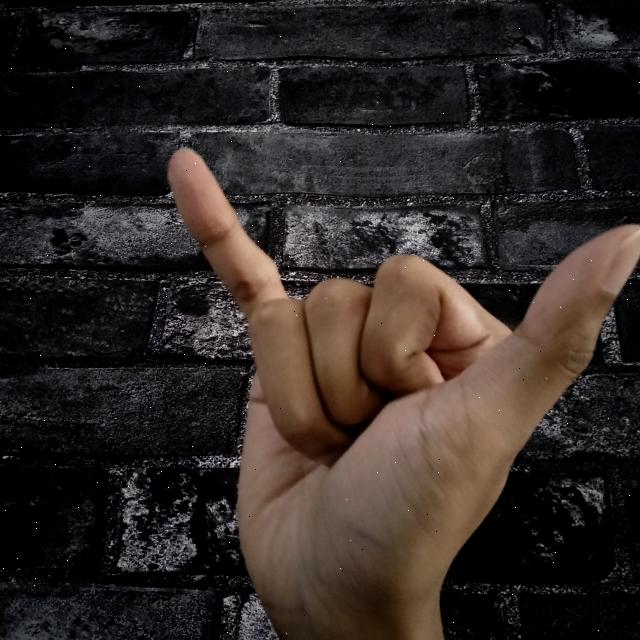Y: (160, 136, 640, 640)
